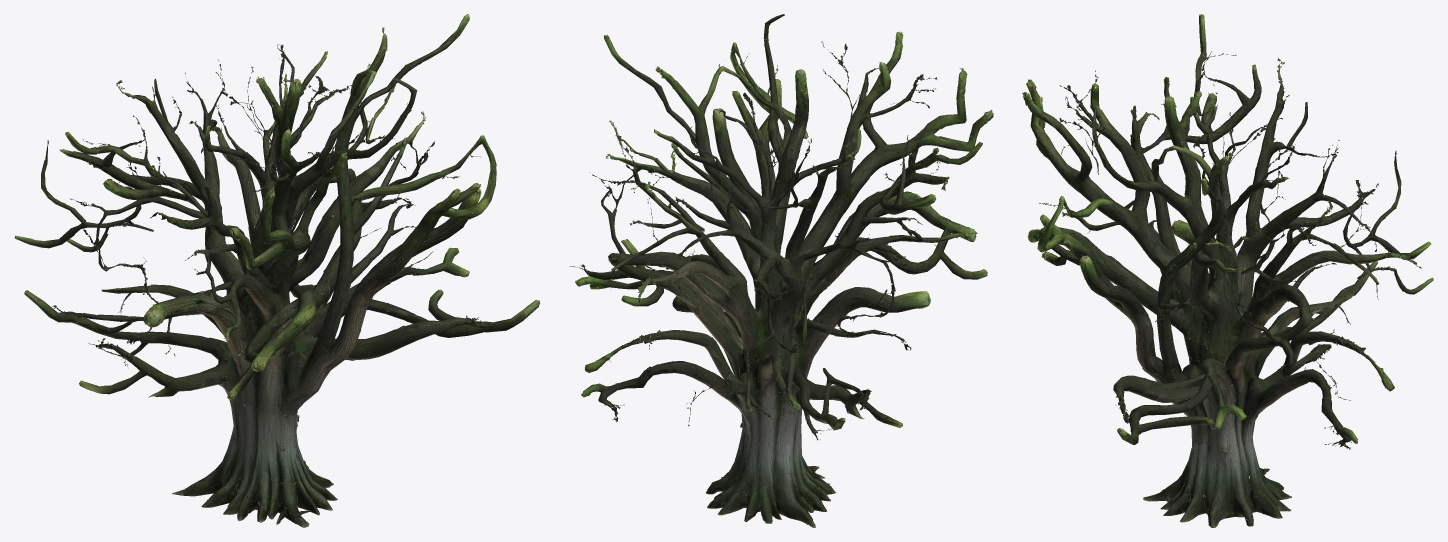
Rendered from liberty-elm.glb.
3 views of the same model, side by side, from view 1: azimuth 30°, elevation 25°; view 2: azimuth 150°, elevation 25°; view 3: azimuth 270°, elevation 25° (orthographic). The views are drawn at different scales.
Parts seen in each view (by area): view 1: Mesh_0; view 2: Mesh_0; view 3: Mesh_0.
Boxes of the visible parts, box(x1,y1,x2,y2) form: Mesh_0: box(14, 14, 540, 527); Mesh_0: box(569, 14, 993, 527); Mesh_0: box(1022, 14, 1433, 527).
Bounding box in the file's own units: 1.89 × 1.91 × 1.69.
Materials: 1 (1 with a texture image).
